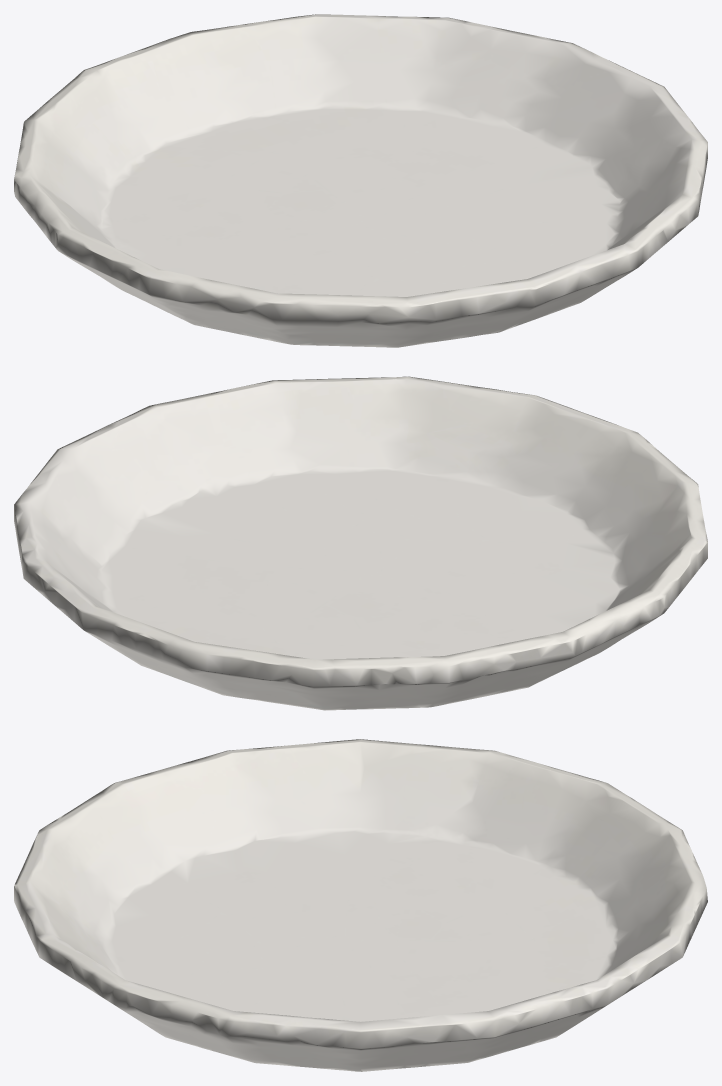
Rendered from white+plate.obj.
3 views of the same model, one above another, from view 1: azimuth 30°, elevation 25°; view 2: azimuth 150°, elevation 25°; view 3: azimuth 270°, elevation 25° (orthographic).
Parts seen in each view (by area): view 1: meshes[0]; view 2: meshes[0]; view 3: meshes[0].
Boxes of the visible parts, x1,y1,x2,y2 form: meshes[0]: (14,14,707,347); meshes[0]: (14,376,707,710); meshes[0]: (14,739,707,1071).
Bounding box in the file's own units: 0.9799 × 0.1156 × 0.9793.
1 material, 1 textured.
